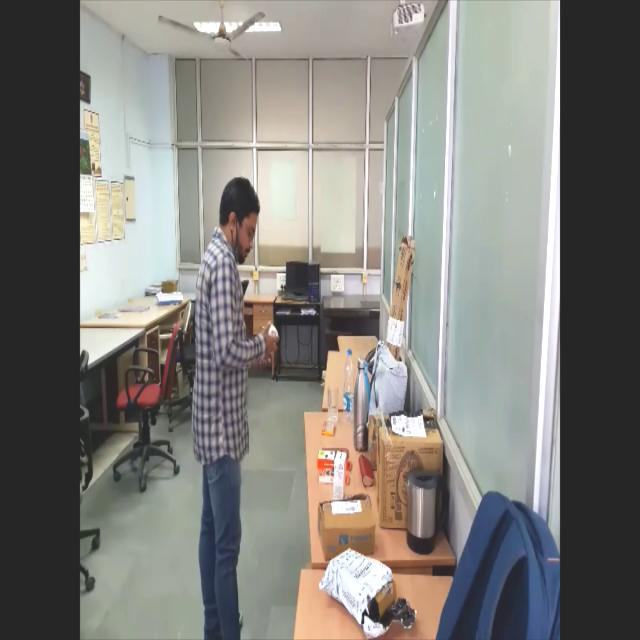normal: (190, 170, 280, 640)
